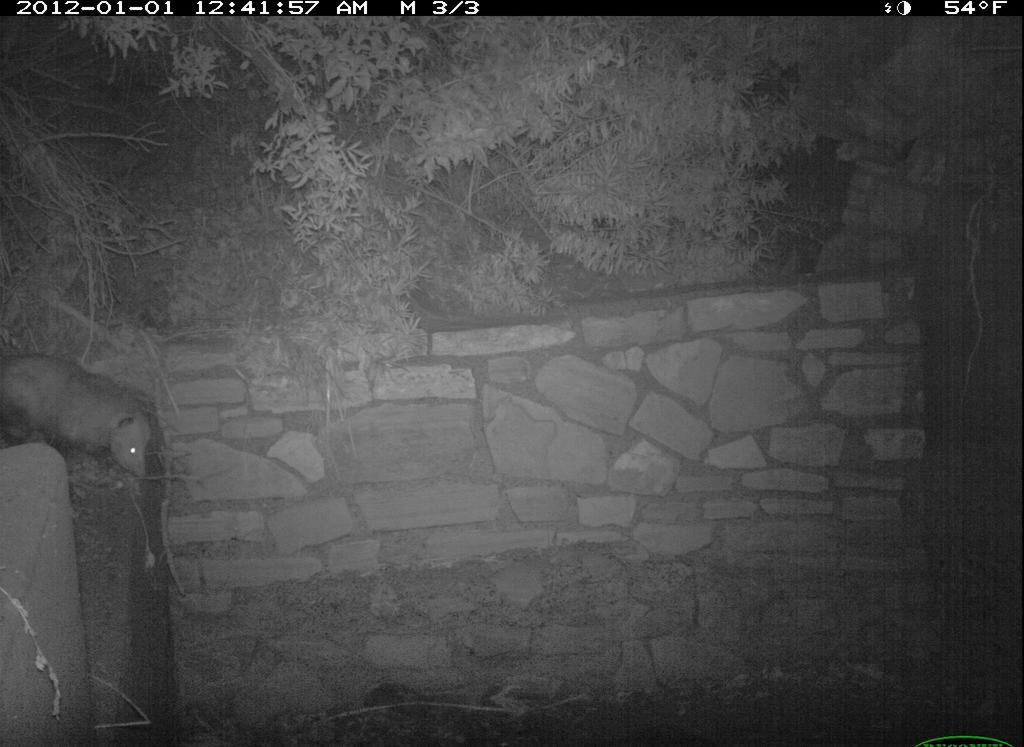opossum: (1, 350, 164, 490)
